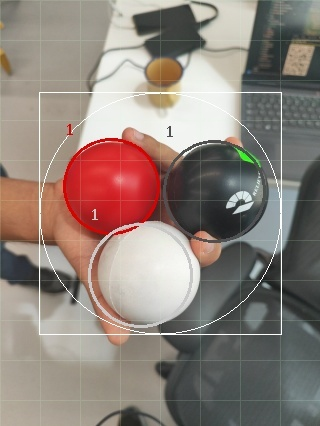Pelota blanca: (87, 220, 201, 331), (143, 55, 185, 89)
Pelota negra: (161, 137, 270, 246), (92, 406, 166, 425)
Pelota roja: (60, 137, 161, 235)
